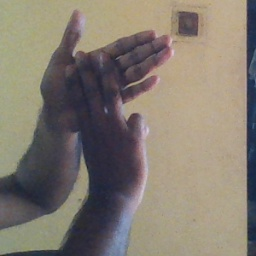M: (35, 8, 175, 179)
